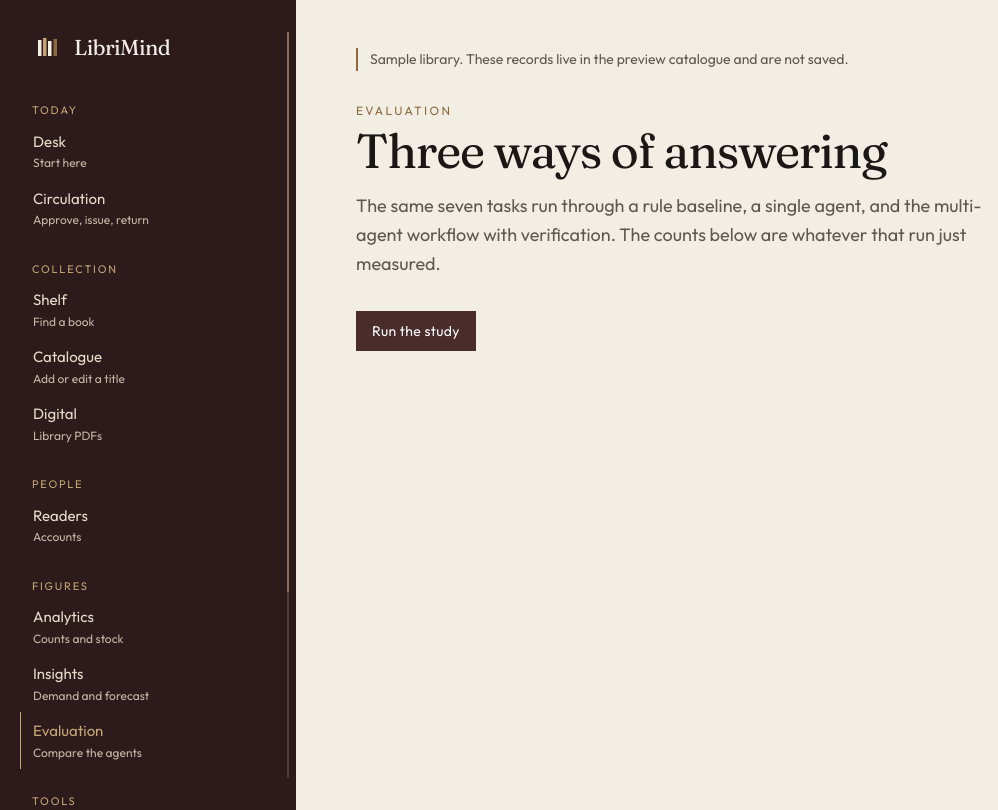
Test: evaluation › does not show scores until a study has been run
Check: the heading "Three ways of answering" is shown, box [356,121,887,180]
Click the button "Run the study" at [416, 330], box [356,310,476,350]
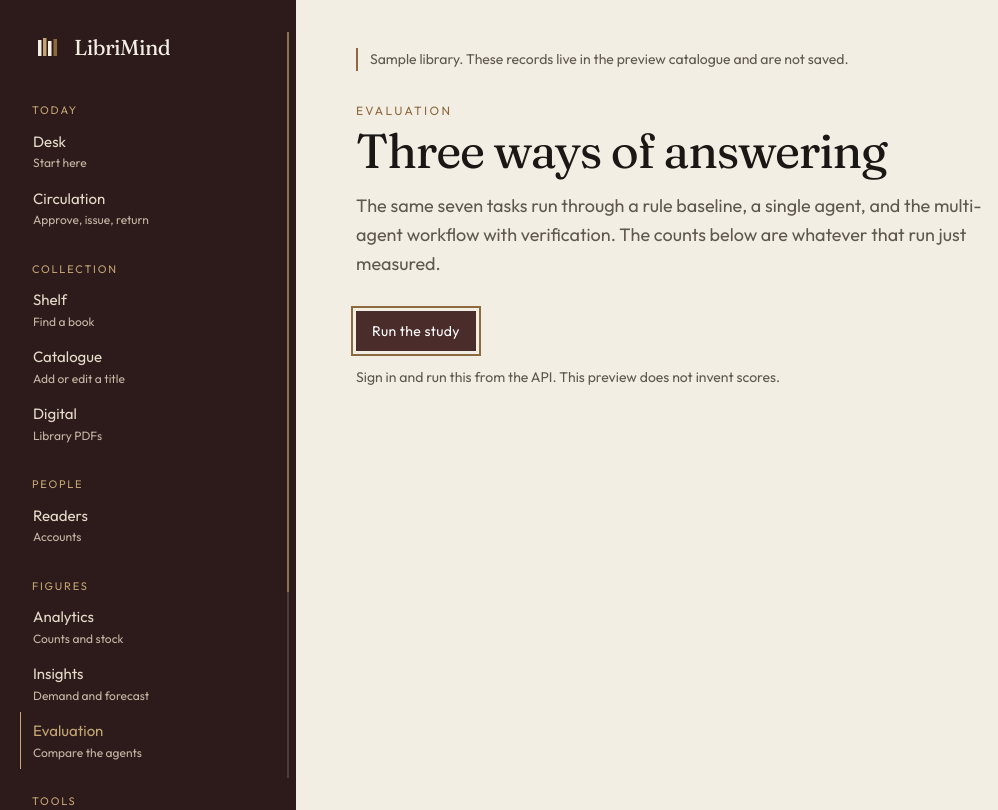
Check: the text "Sign in and run this from the API. This preview does not invent scores." is shown, box [356,368,780,386]
